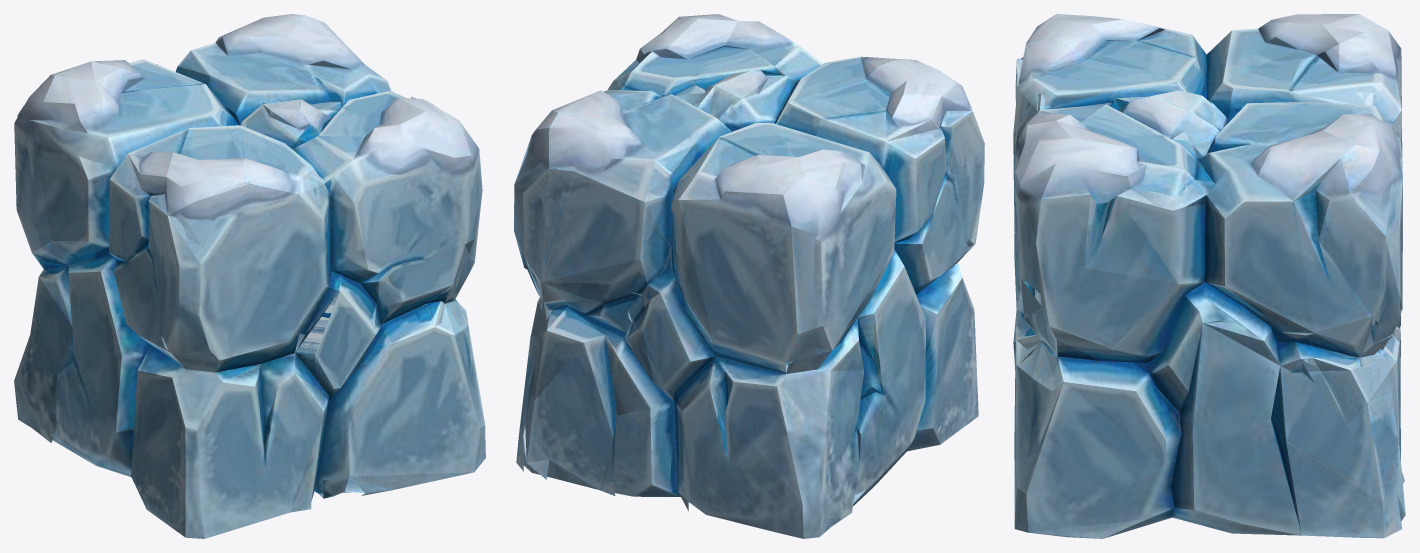
Rendered from crypte_mur.glb.
3 views of the same model, side by side, from view 1: azimuth 30°, elevation 25°; view 2: azimuth 150°, elevation 25°; view 3: azimuth 270°, elevation 25° (orthographic). The views are drawn at different scales.
Bounding box in the file's own units: 1.78 × 1.9 × 1.77.
1 material, 1 textured.
